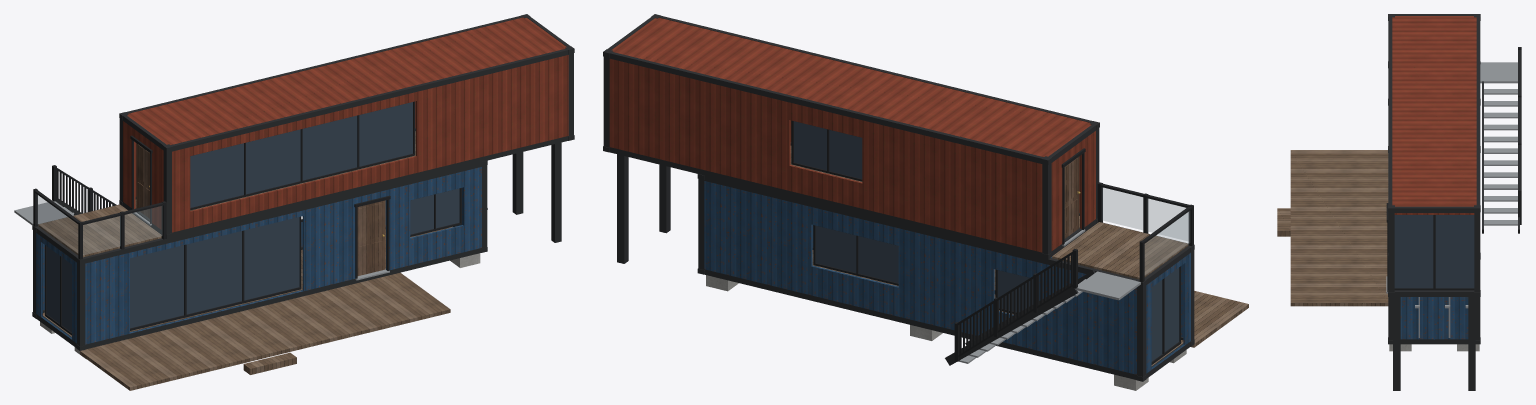
The model's file is container-home.glb.
3 views of the same model, side by side, from view 1: azimuth 30°, elevation 25°; view 2: azimuth 150°, elevation 25°; view 3: azimuth 270°, elevation 25° (orthographic). The views are drawn at different scales.
Parts seen in each view (by area): view 1: Container_Home; view 2: Container_Home; view 3: Container_Home.
Part boxes in pixels (left/top/right/bottom): Container_Home: left=14, top=14, right=574, bottom=390; Container_Home: left=603, top=14, right=1248, bottom=390; Container_Home: left=1277, top=14, right=1521, bottom=390.
Size of the model in its own units: 14.82 by 5.5 by 6.49.
11 materials, 5 textured.
